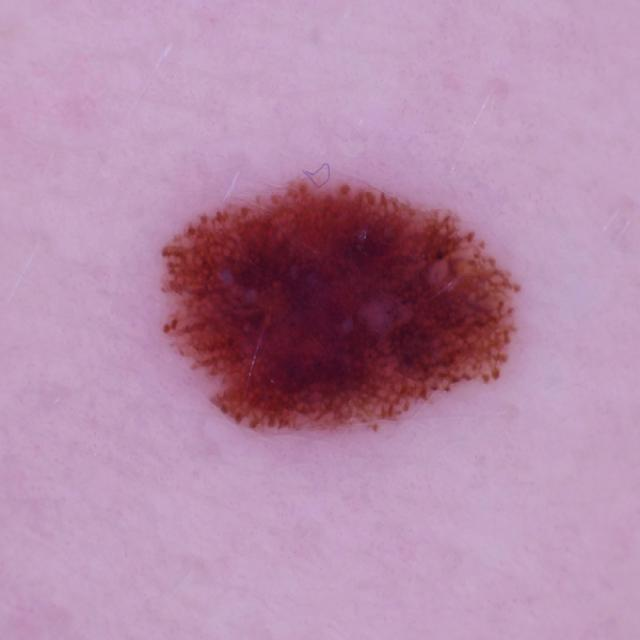NV: (160, 176, 517, 432)
